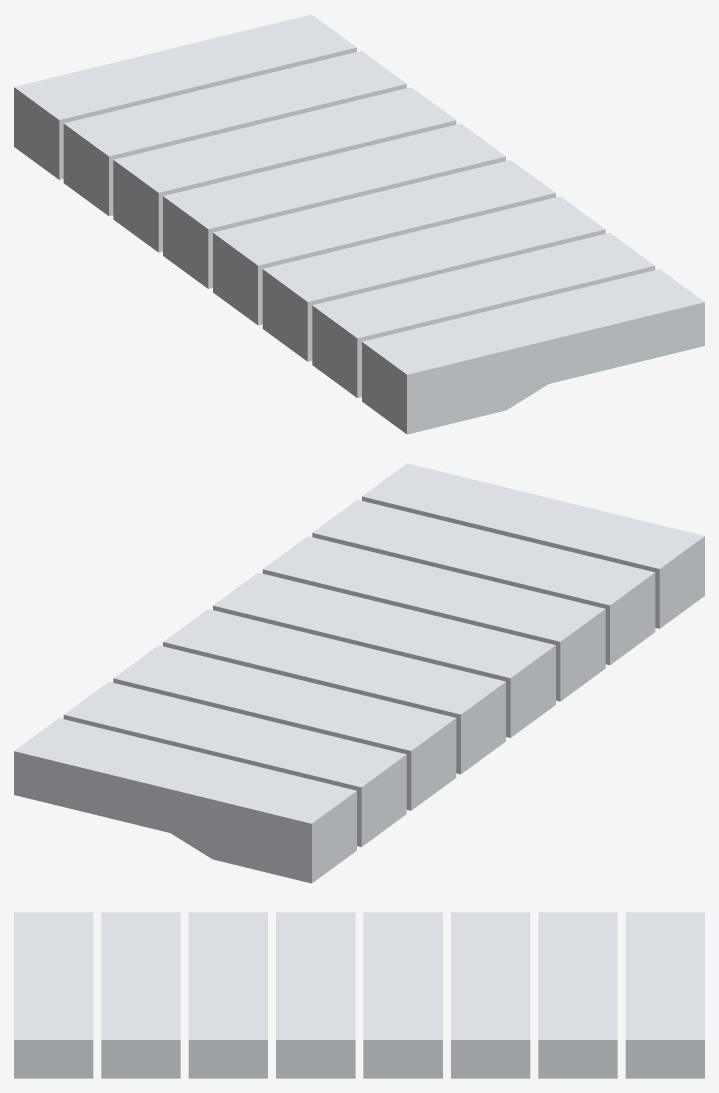
Rendered from fgr_fur_keyboard_keys.fbx.
The picture shows the model from 3 angles, top to bottom: view 1: azimuth 30°, elevation 25°; view 2: azimuth 150°, elevation 25°; view 3: azimuth 270°, elevation 25°; orthographic projection. The views are drawn at different scales.
Visible parts, largest first — view 1: fgr_fur_keyboard_key; view 2: fgr_fur_keyboard_key; view 3: fgr_fur_keyboard_key.
Boxes of the visible parts, x1,y1,x2,y2 form: fgr_fur_keyboard_key: (14, 14, 704, 434); fgr_fur_keyboard_key: (14, 463, 704, 883); fgr_fur_keyboard_key: (14, 912, 704, 1078).
Bounding box in the file's own units: 1585 × 304 × 3625.
Materials: 1 (1 with a texture image).
